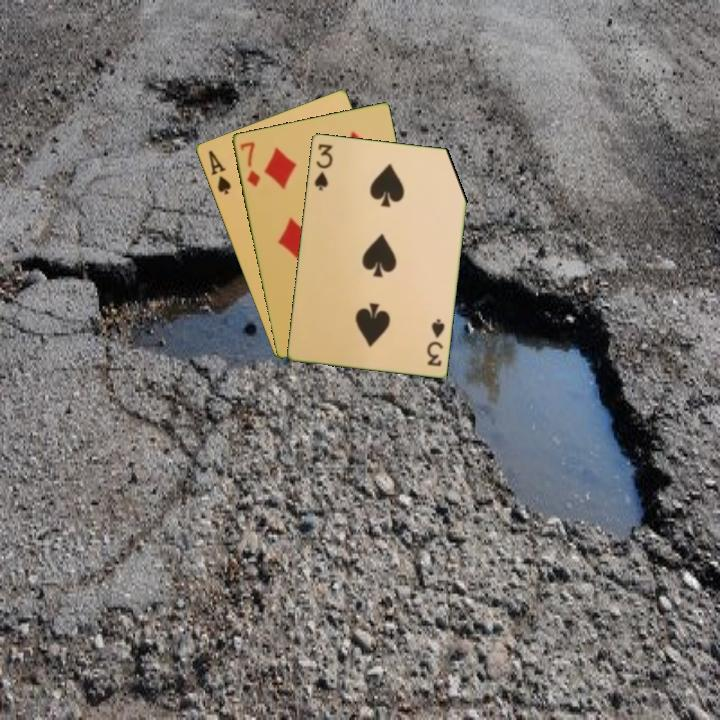3s: (310, 140, 335, 193), (423, 315, 447, 369)
7d: (236, 138, 263, 190)
As: (204, 146, 233, 197)
